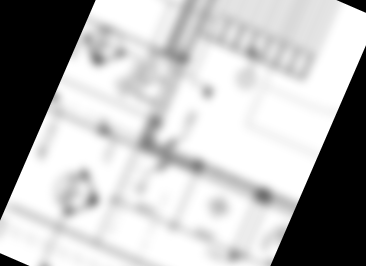double door: (132, 49, 179, 109)
wall: (167, 0, 221, 55), (182, 0, 234, 56), (143, 136, 205, 171), (140, 116, 165, 154), (169, 43, 197, 62)
